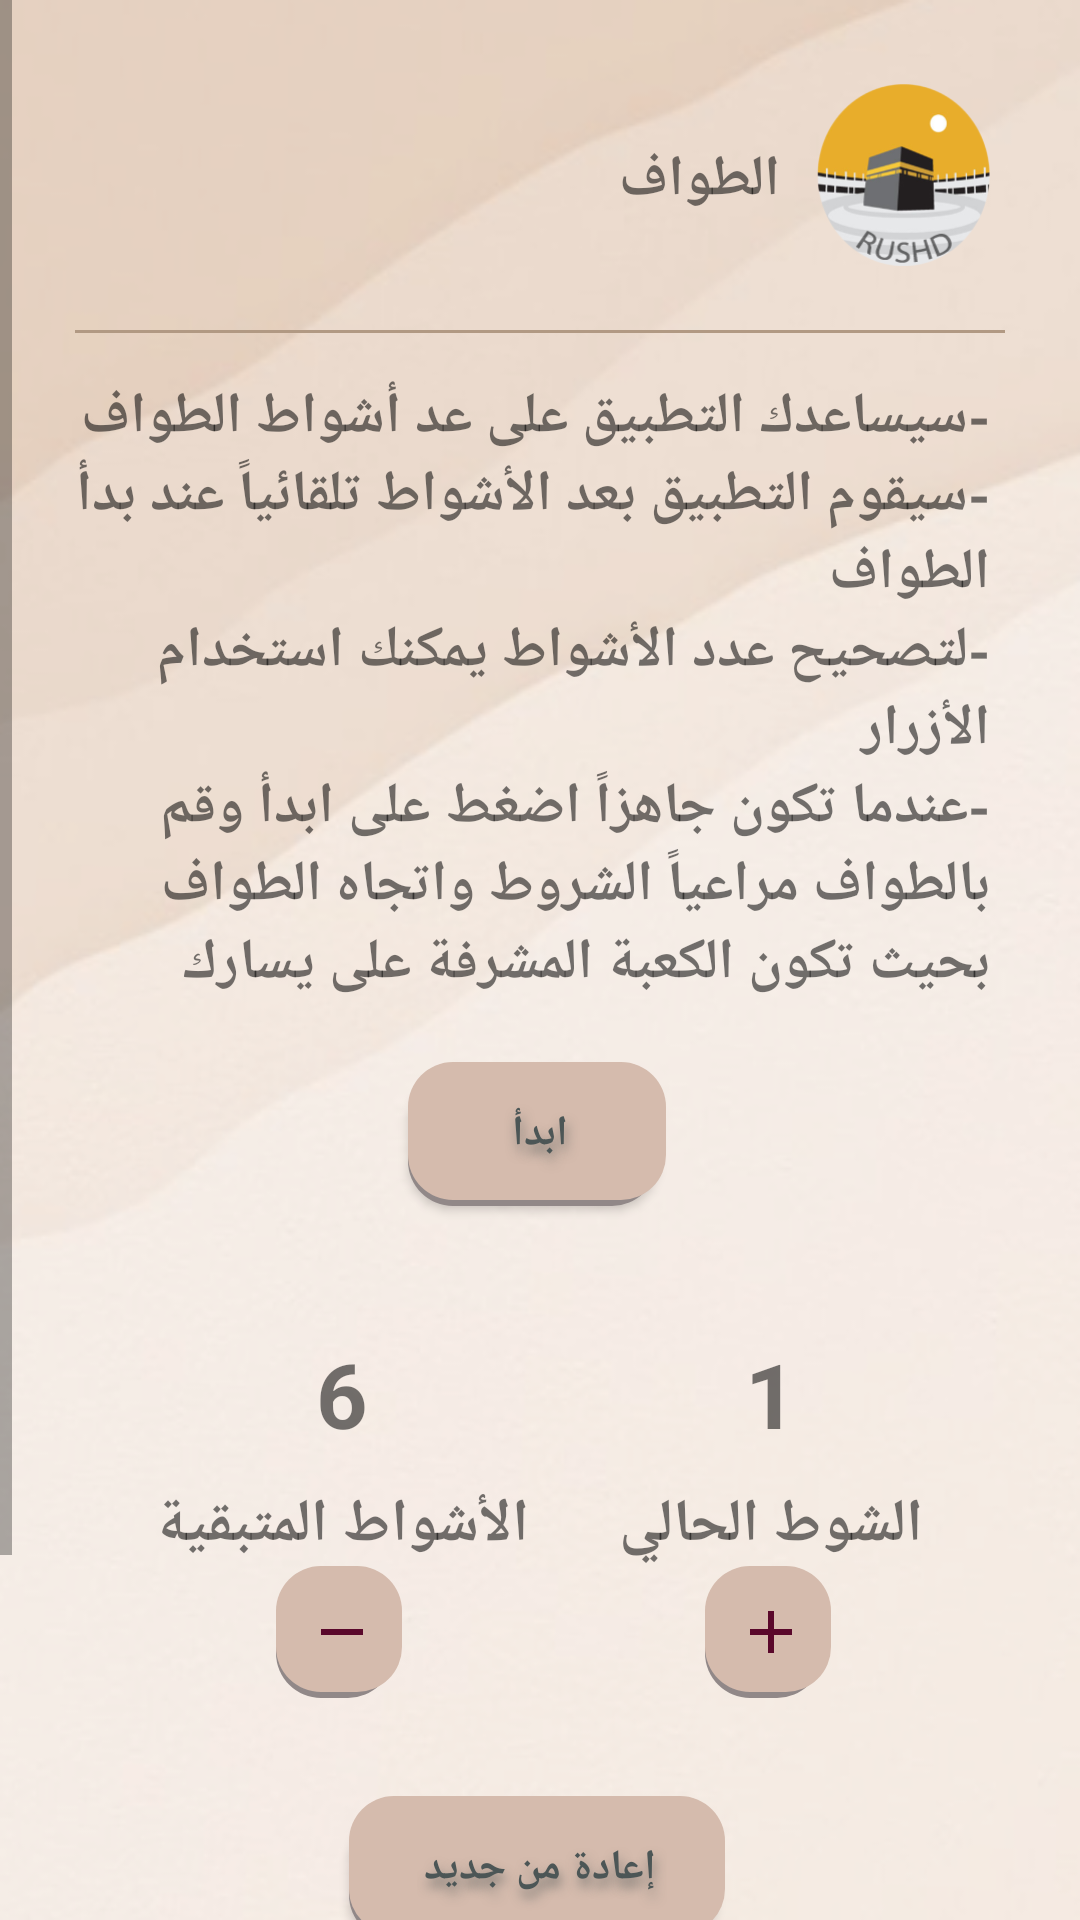

Screen size 1080x1920. Icon name, then its box in pixels as bbox=[x1, y1, x2, y2]:
add: bbox=[705, 1566, 831, 1698]
remove: bbox=[276, 1566, 402, 1698]
